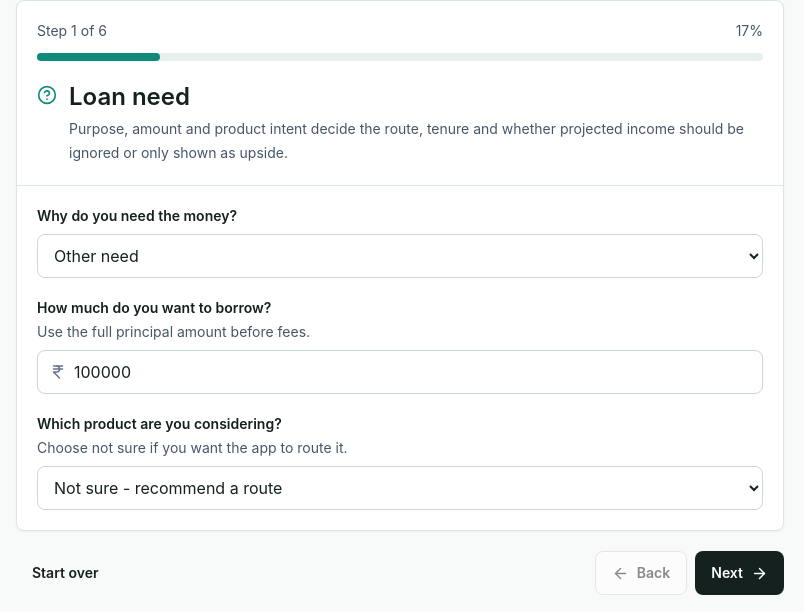
Scenario: Questionnaire › preserves answers when moving forward and back
Replace the text in the number field labelled "How much do you want" with "250000". click: (400, 372)
box: [37,350,763,394]
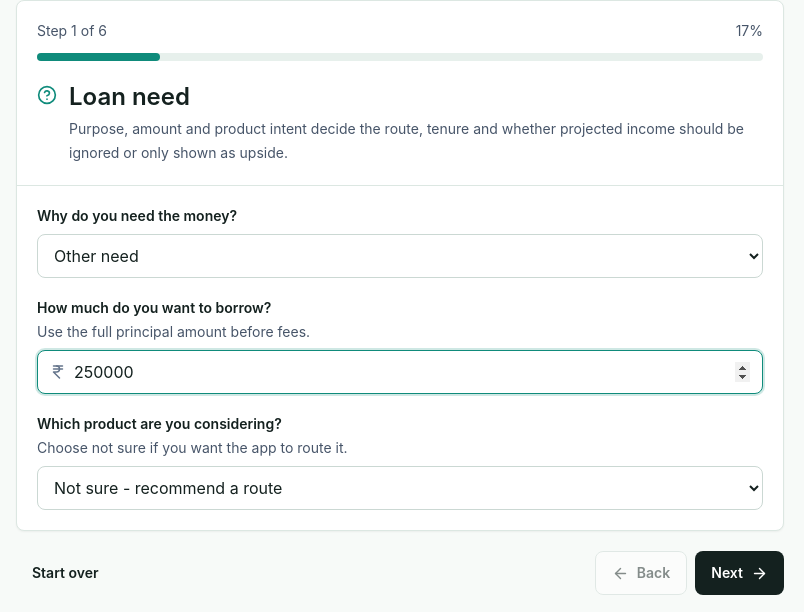
Click the button "Next". click: (740, 573)
box: [695,551,784,595]
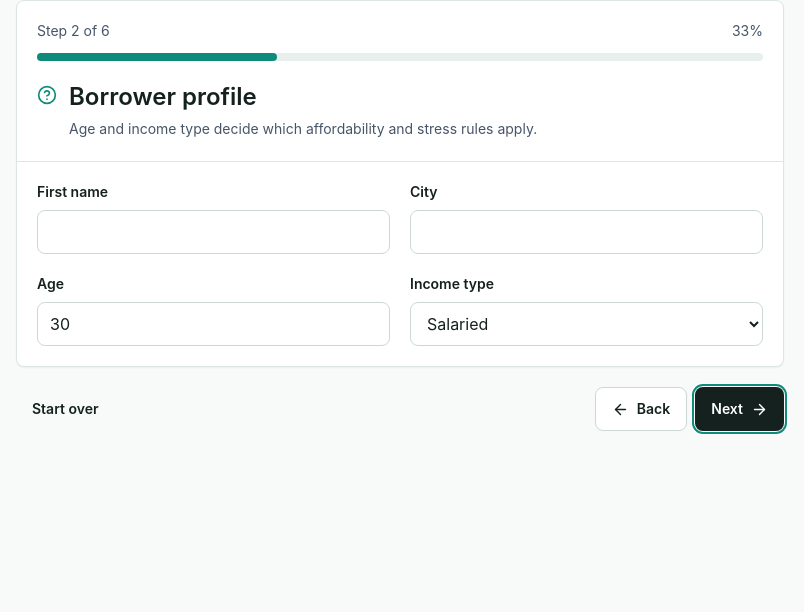
Click the button "Back". click: (641, 409)
box: [595,387,687,431]
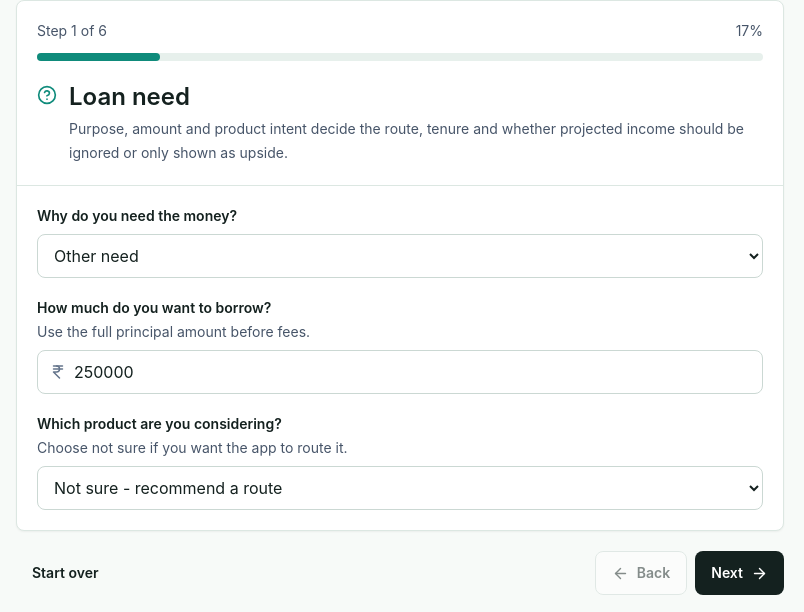
Expected: the number field labelled "How much do you want" holds "250000", [37,350,763,394]
